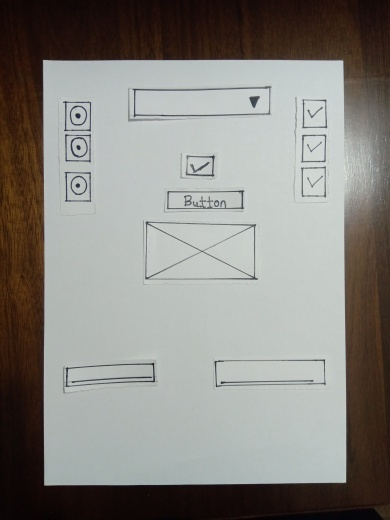button: (169, 188, 244, 208)
checkbox: (297, 135, 327, 164), (301, 100, 329, 127), (298, 169, 326, 196), (183, 156, 215, 177)
dropdown: (127, 86, 271, 121)
img: (145, 221, 256, 279)
radio: (64, 103, 90, 130), (64, 173, 90, 200), (65, 135, 91, 162)
text: (211, 358, 332, 386), (58, 361, 156, 390)
